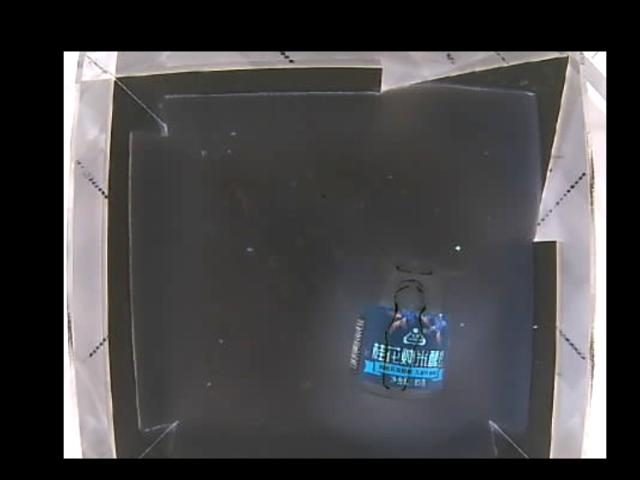Bottle: (349, 251, 451, 400)
